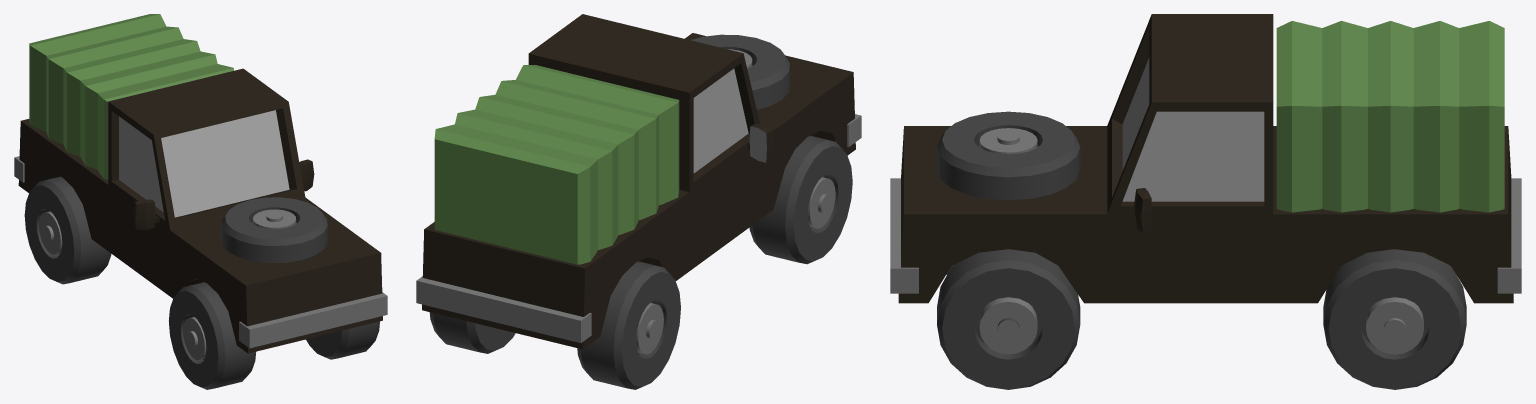
Rendered from Jipe.fbx.
3 renders of one model, left to right at view 1: azimuth 30°, elevation 25°; view 2: azimuth 150°, elevation 25°; view 3: azimuth 270°, elevation 25°, orthographic. The views are drawn at different scales.
Visible parts, largest first — view 1: Jipe.001; view 2: Jipe.001; view 3: Jipe.001.
Boxes of the visible parts, <box> form: Jipe.001: <box>14,14,387,389</box>; Jipe.001: <box>416,14,861,389</box>; Jipe.001: <box>890,14,1521,389</box>.
Size of the model in its own units: 186 by 210 by 425.
1 material, 1 textured.
